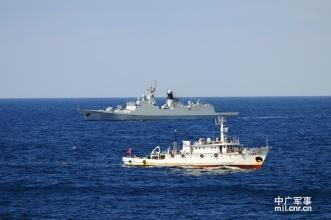otherboat: (120, 121, 272, 170)
warship: (74, 77, 243, 122)
